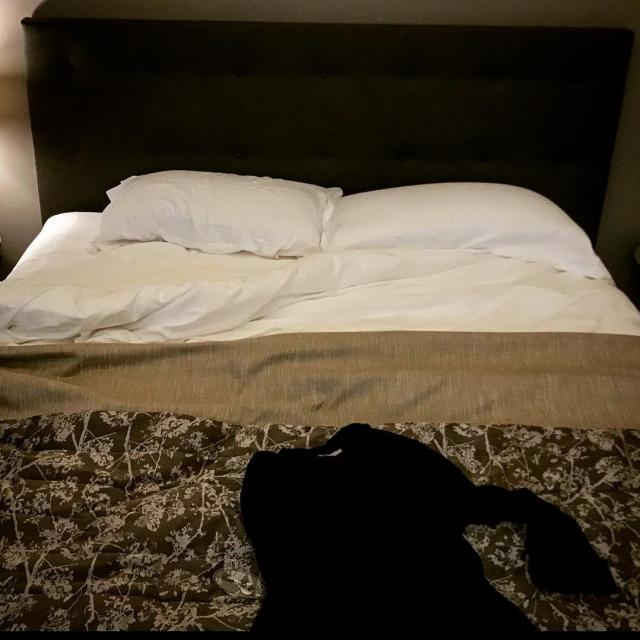bed: (0, 88, 631, 616)
